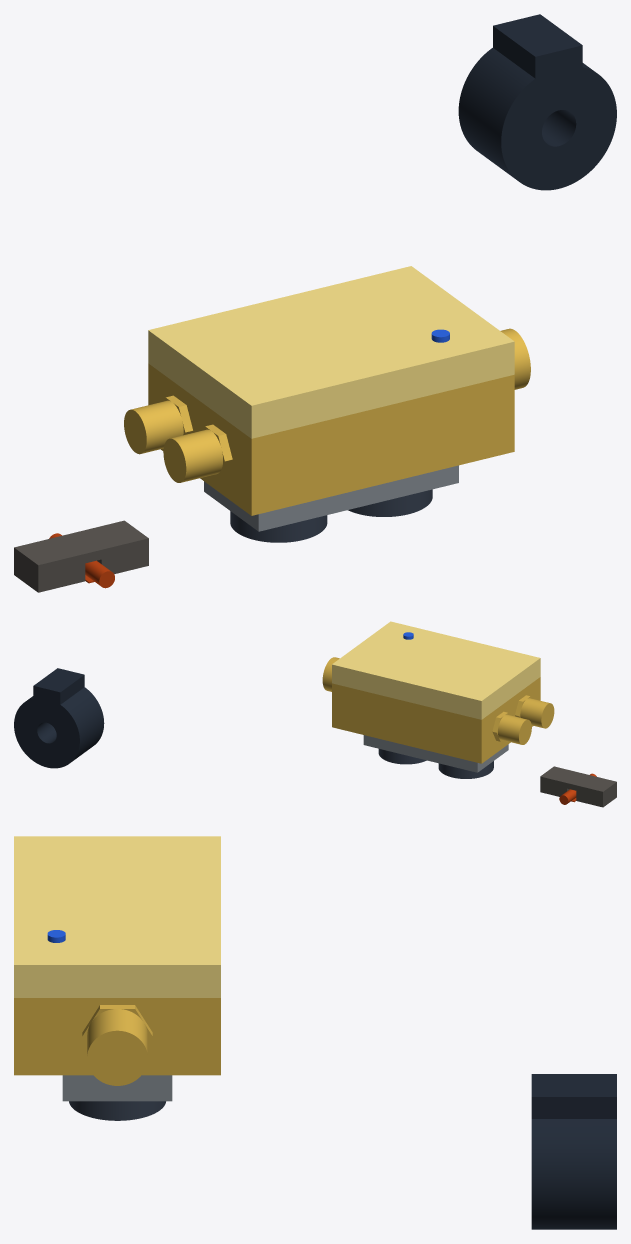
3 renders of one model, top to bottom at view 1: azimuth 30°, elevation 25°; view 2: azimuth 150°, elevation 25°; view 3: azimuth 270°, elevation 25°, orthographic. The views are drawn at different scales.
Parts seen in each view (by area): view 1: Enclosure lid, drilled, with light pipe hole, Enclosure base, drilled, with three cable glands, Split-core current transformer, Probe clip with magnets, Aluminium sensor block and boss, Pot magnets, 32 mm, pair; view 2: Enclosure lid, drilled, with light pipe hole, Enclosure base, drilled, with three cable glands, Split-core current transformer, Probe clip with magnets, Aluminium sensor block and boss, Pot magnets, 32 mm, pair; view 3: Enclosure lid, drilled, with light pipe hole, Enclosure base, drilled, with three cable glands, Split-core current transformer, Aluminium sensor block and boss, Pot magnets, 32 mm, pair.
Part boxes in pixels (x1,y1,x2,y2): Enclosure lid, drilled, with light pipe hole: [148, 266, 514, 438]; Enclosure base, drilled, with three cable glands: [124, 328, 530, 515]; Split-core current transformer: [458, 14, 616, 190]; Probe clip with magnets: [14, 520, 148, 592]; Aluminium sensor block and boss: [204, 465, 458, 531]; Pot magnets, 32 mm, pair: [230, 489, 432, 542]; Enclosure lid, drilled, with light pipe hole: [332, 621, 540, 719]; Enclosure base, drilled, with three cable glands: [322, 657, 554, 763]; Split-core current transformer: [14, 668, 104, 768]; Probe clip with magnets: [540, 766, 616, 807]; Aluminium sensor block and boss: [363, 735, 508, 772]; Pot magnets, 32 mm, pair: [378, 749, 493, 778]; Enclosure lid, drilled, with light pipe hole: [14, 836, 220, 997]; Enclosure base, drilled, with three cable glands: [14, 998, 220, 1085]; Split-core current transformer: [531, 1074, 616, 1229]; Aluminium sensor block and boss: [62, 1075, 172, 1101]; Pot magnets, 32 mm, pair: [69, 1101, 165, 1120].
Size of the model in its own units: 0.303 by 0.073 by 0.198.
